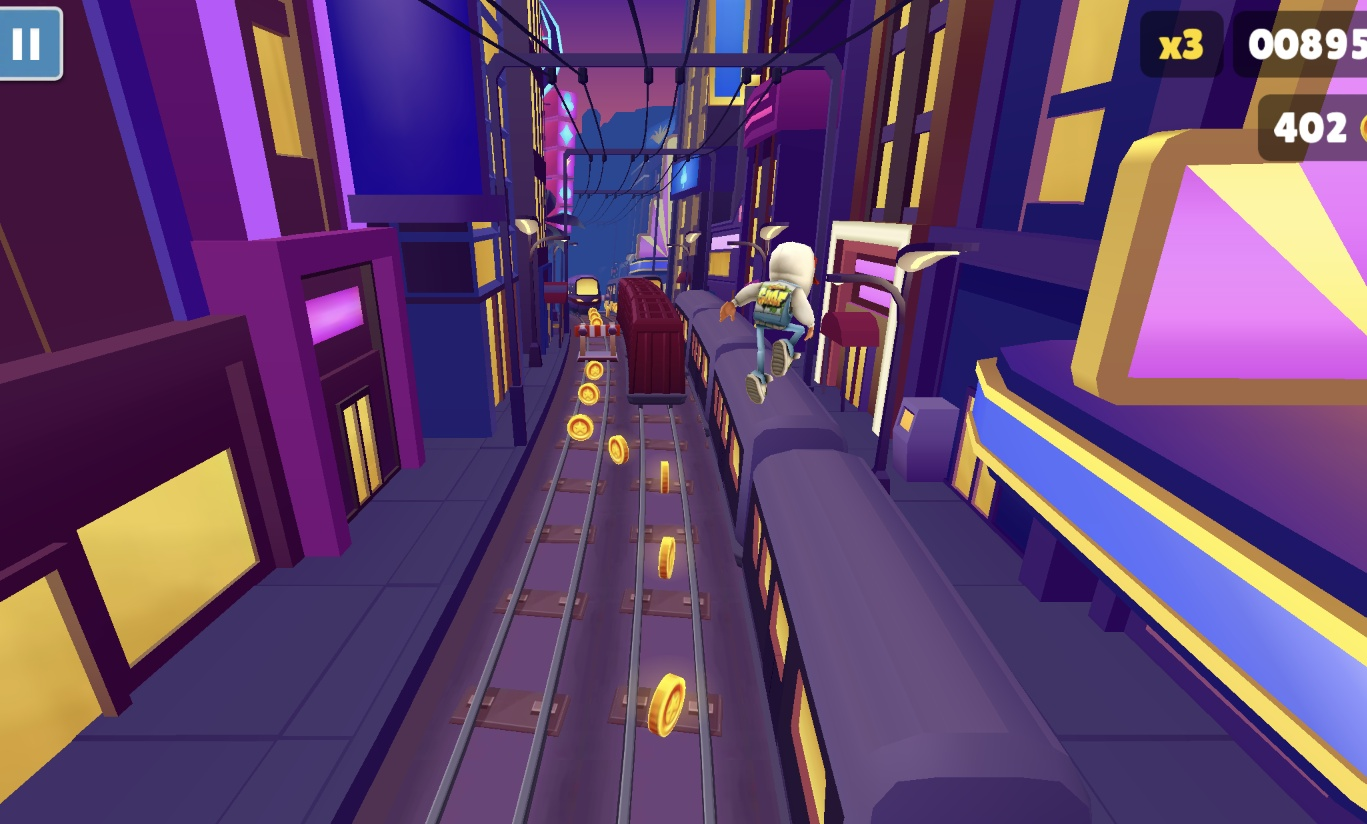ground_barrier: (575, 322, 622, 363)
train: (674, 288, 1113, 824), (616, 277, 688, 406), (606, 275, 673, 339), (573, 275, 604, 312)
